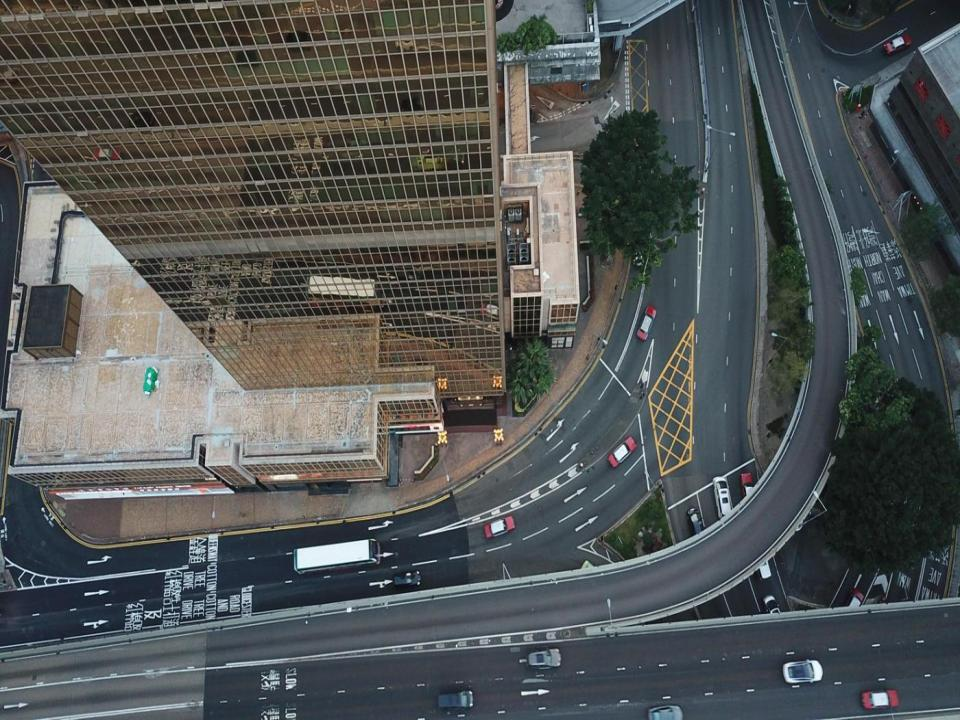bus: (292, 538, 381, 575)
car: (782, 657, 824, 684), (608, 436, 636, 468), (712, 475, 731, 521), (862, 686, 898, 709), (483, 515, 515, 540), (527, 645, 561, 668), (687, 507, 706, 547), (636, 306, 657, 340), (844, 586, 863, 620), (884, 34, 912, 56), (756, 545, 771, 580), (647, 705, 684, 719), (393, 570, 420, 589), (740, 472, 755, 505), (632, 232, 646, 267), (764, 595, 779, 624), (873, 595, 884, 620)
van: (438, 688, 474, 709)
